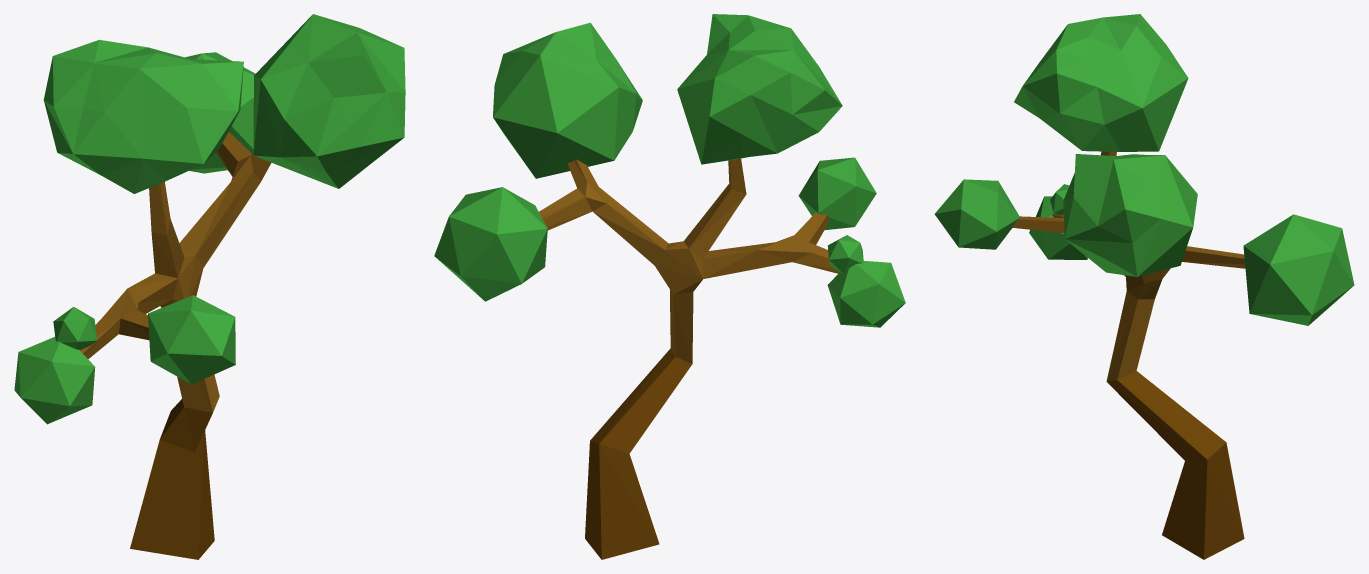
The model's file is Low_Poly_Tree.fbx.
The picture shows the model from 3 angles, left to right: view 1: azimuth 30°, elevation 25°; view 2: azimuth 150°, elevation 25°; view 3: azimuth 270°, elevation 25°; orthographic projection. The views are drawn at different scales.
Parts seen in each view (by area): view 1: Tree.009; view 2: Tree.009; view 3: Tree.009.
Part boxes in pixels (x1=…): Tree.009: x1=14, y1=14, x2=405, y2=559; Tree.009: x1=434, y1=14, x2=905, y2=559; Tree.009: x1=934, y1=14, x2=1354, y2=559.
Bounding box in the file's own units: 306 × 392 × 316.
